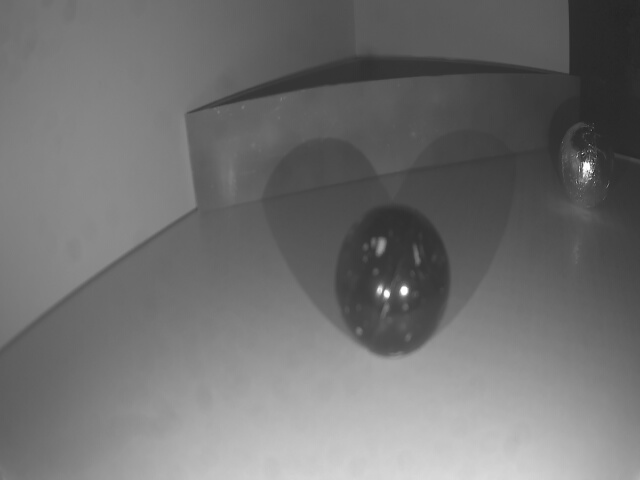Dead: (337, 209, 453, 359)
Green: (185, 74, 582, 213)
Live: (559, 122, 619, 210)
